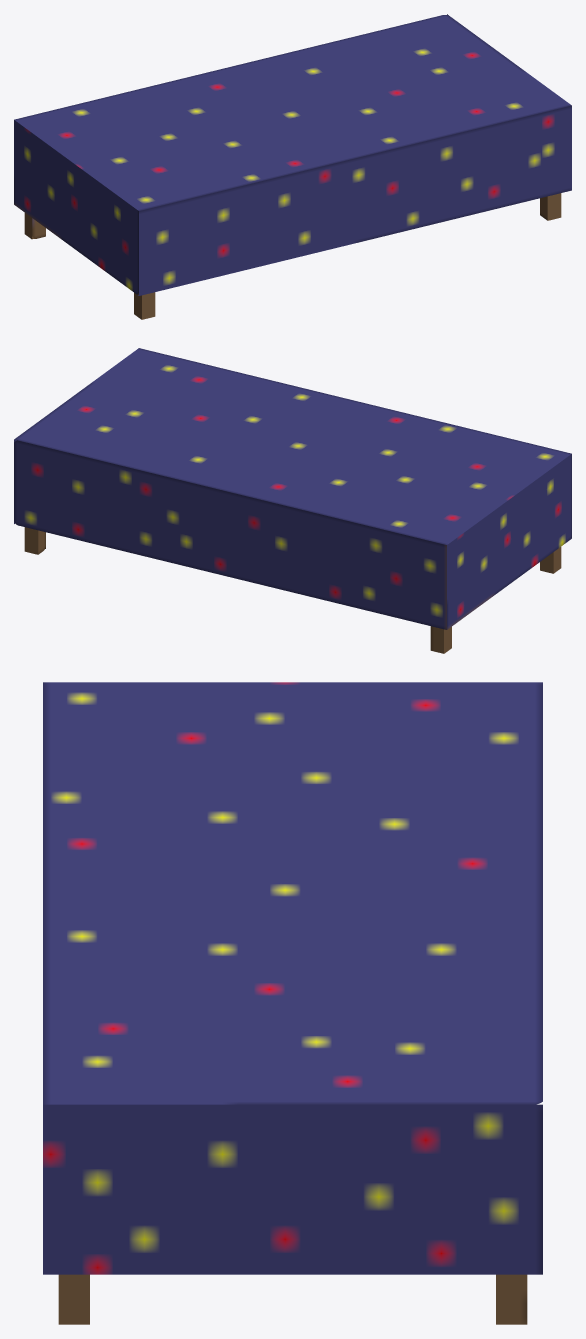
The model's file is table2.fbx.
3 views of the same model, one above another, from view 1: azimuth 30°, elevation 25°; view 2: azimuth 150°, elevation 25°; view 3: azimuth 270°, elevation 25° (orthographic). The views are drawn at different scales.
Visible parts, largest first — view 1: tabletop, leg_2, leg_3, leg_1; view 2: tabletop, leg_1, leg_4, leg_2; view 3: tabletop, leg_3, leg_4.
Boxes of the visible parts, <box> form: tabletop: <box>14,14,571,295</box>; leg_2: <box>134,292,155,319</box>; leg_3: <box>540,193,561,220</box>; leg_1: <box>24,213,45,239</box>; tabletop: <box>14,348,571,629</box>; leg_1: <box>430,626,451,653</box>; leg_4: <box>24,527,45,554</box>; leg_2: <box>540,547,561,573</box>; tabletop: <box>43,682,542,1274</box>; leg_3: <box>58,1274,89,1324</box>; leg_4: <box>496,1274,527,1324</box>.
Size of the model in its own units: 400 by 100 by 200.
